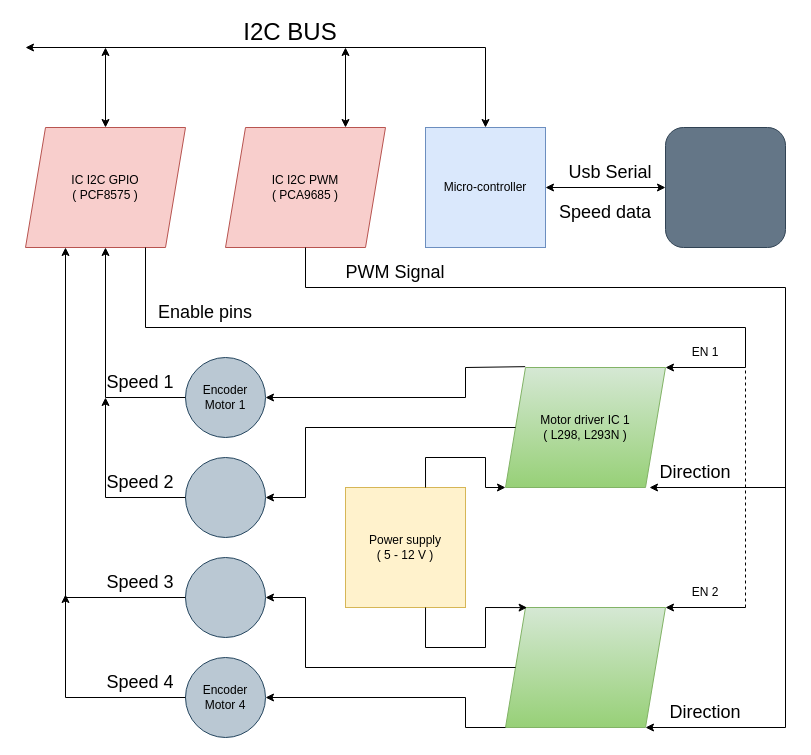
This 811x755 diagram has some shape labels left out. Each missing label, with the centre of its shape:
Computer: pixel 725 187
Encoder Motor 2: pixel 225 497
Encoder Motor 3: pixel 225 597
Motor driver IC 2 ( L298, L293N ): pixel 585 667
